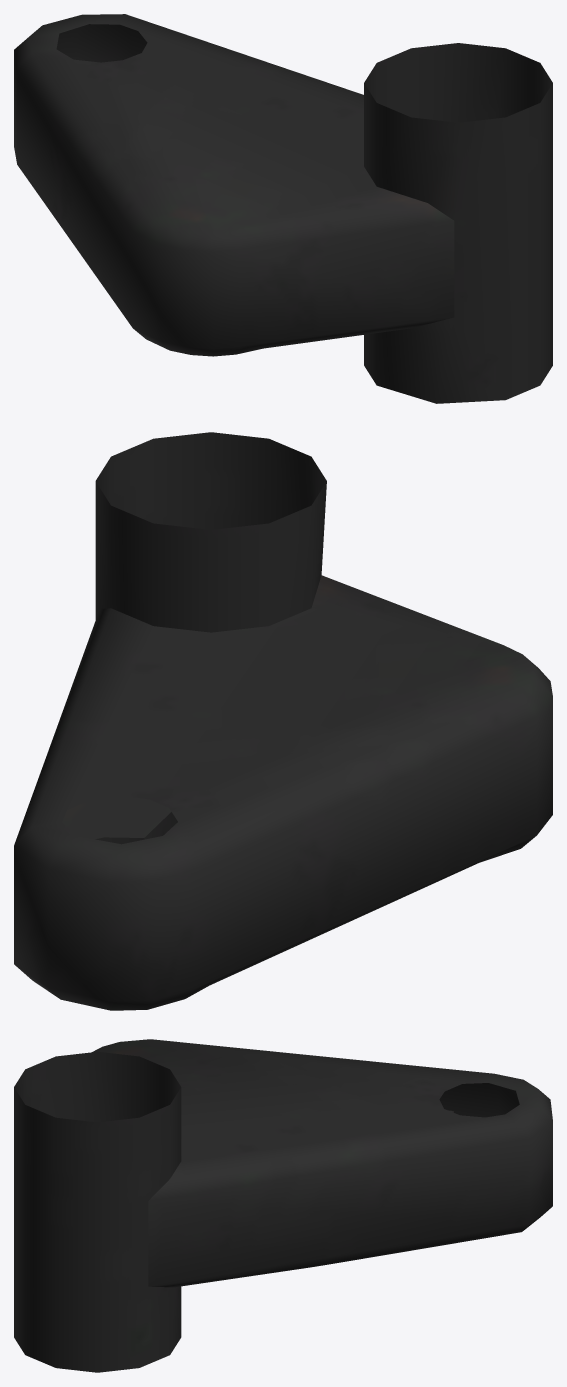
File: gripper_left_2.dae
The picture shows the model from 3 angles, top to bottom: view 1: azimuth 30°, elevation 25°; view 2: azimuth 150°, elevation 25°; view 3: azimuth 270°, elevation 25°; orthographic projection. The views are drawn at different scales.
Visible parts, largest first — view 1: gripper_left_2; view 2: gripper_left_2; view 3: gripper_left_2.
Boxes of the visible parts, <box> form: gripper_left_2: <box>14,14,552,403</box>; gripper_left_2: <box>14,432,552,1010</box>; gripper_left_2: <box>14,1039,552,1372</box>.
Size of the model in its own units: 0.0236 by 0.0329 by 0.0169.
